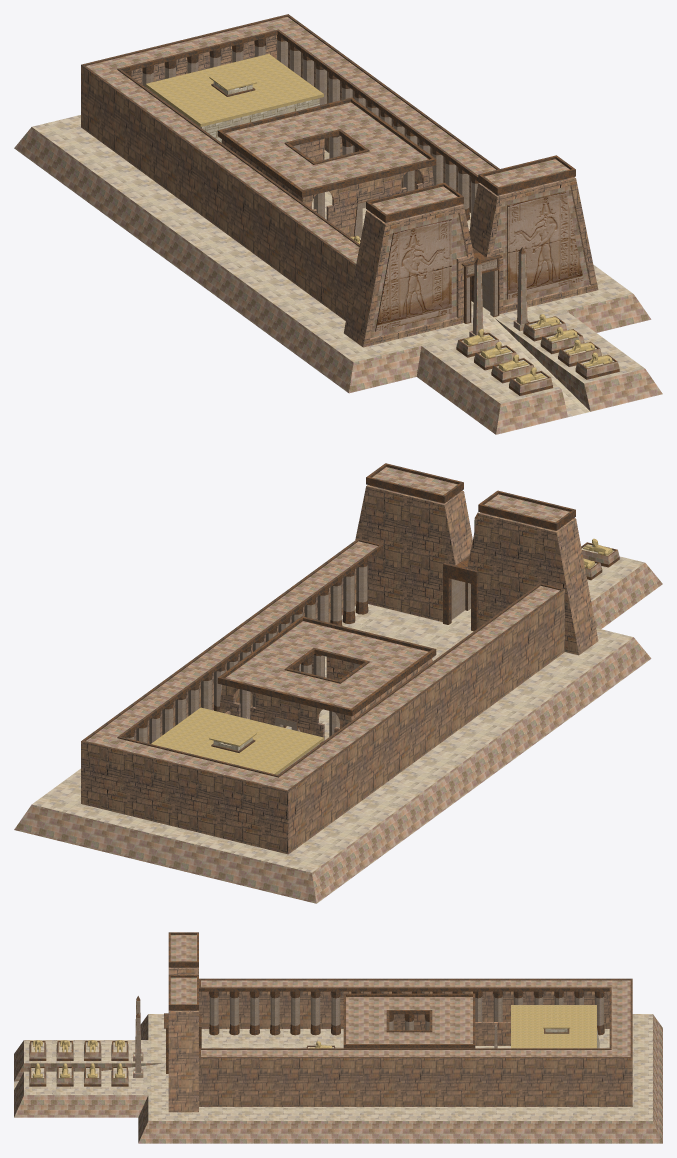
Rendered from Egyptian_Temple_1.glb.
The picture shows the model from 3 angles, top to bottom: view 1: azimuth 30°, elevation 25°; view 2: azimuth 150°, elevation 25°; view 3: azimuth 270°, elevation 25°; orthographic projection. The views are drawn at different scales.
Parts seen in each view (by area): view 1: Material2.002, Material2.001, Material2.007, Material3.001, Material2.004, Material2.006, Material2.003, Material2.005; view 2: Material2.001, Material2.002, Material2.007, Material3.001, Material2.006, Material2.003; view 3: Material2.002, Material2.001, Material2.007, Material3.001, Material2.006, Material2.003.
Boxes of the visible parts, bbox=[...] form: Material2.002: bbox=[14, 16, 662, 434]; Material2.001: bbox=[81, 35, 598, 347]; Material2.007: bbox=[32, 115, 644, 416]; Material3.001: bbox=[81, 14, 619, 395]; Material2.004: bbox=[376, 191, 583, 331]; Material2.006: bbox=[145, 54, 612, 384]; Material2.003: bbox=[142, 39, 526, 334]; Material2.005: bbox=[150, 81, 319, 142]; Material2.001: bbox=[81, 485, 598, 854]; Material2.002: bbox=[14, 467, 662, 903]; Material2.007: bbox=[32, 544, 644, 872]; Material3.001: bbox=[81, 463, 619, 791]; Material2.006: bbox=[151, 538, 612, 774]; Material2.003: bbox=[125, 520, 476, 745]; Material2.002: bbox=[14, 935, 662, 1143]; Material2.001: bbox=[168, 967, 632, 1112]; Material2.007: bbox=[14, 1014, 652, 1120]; Material3.001: bbox=[29, 932, 632, 1086]; Material2.006: bbox=[32, 1005, 596, 1077]; Material2.003: bbox=[135, 996, 603, 1072].
Size of the model in its own units: 5.58 by 2.63 by 13.23.
Materials: 10 (8 with a texture image).
